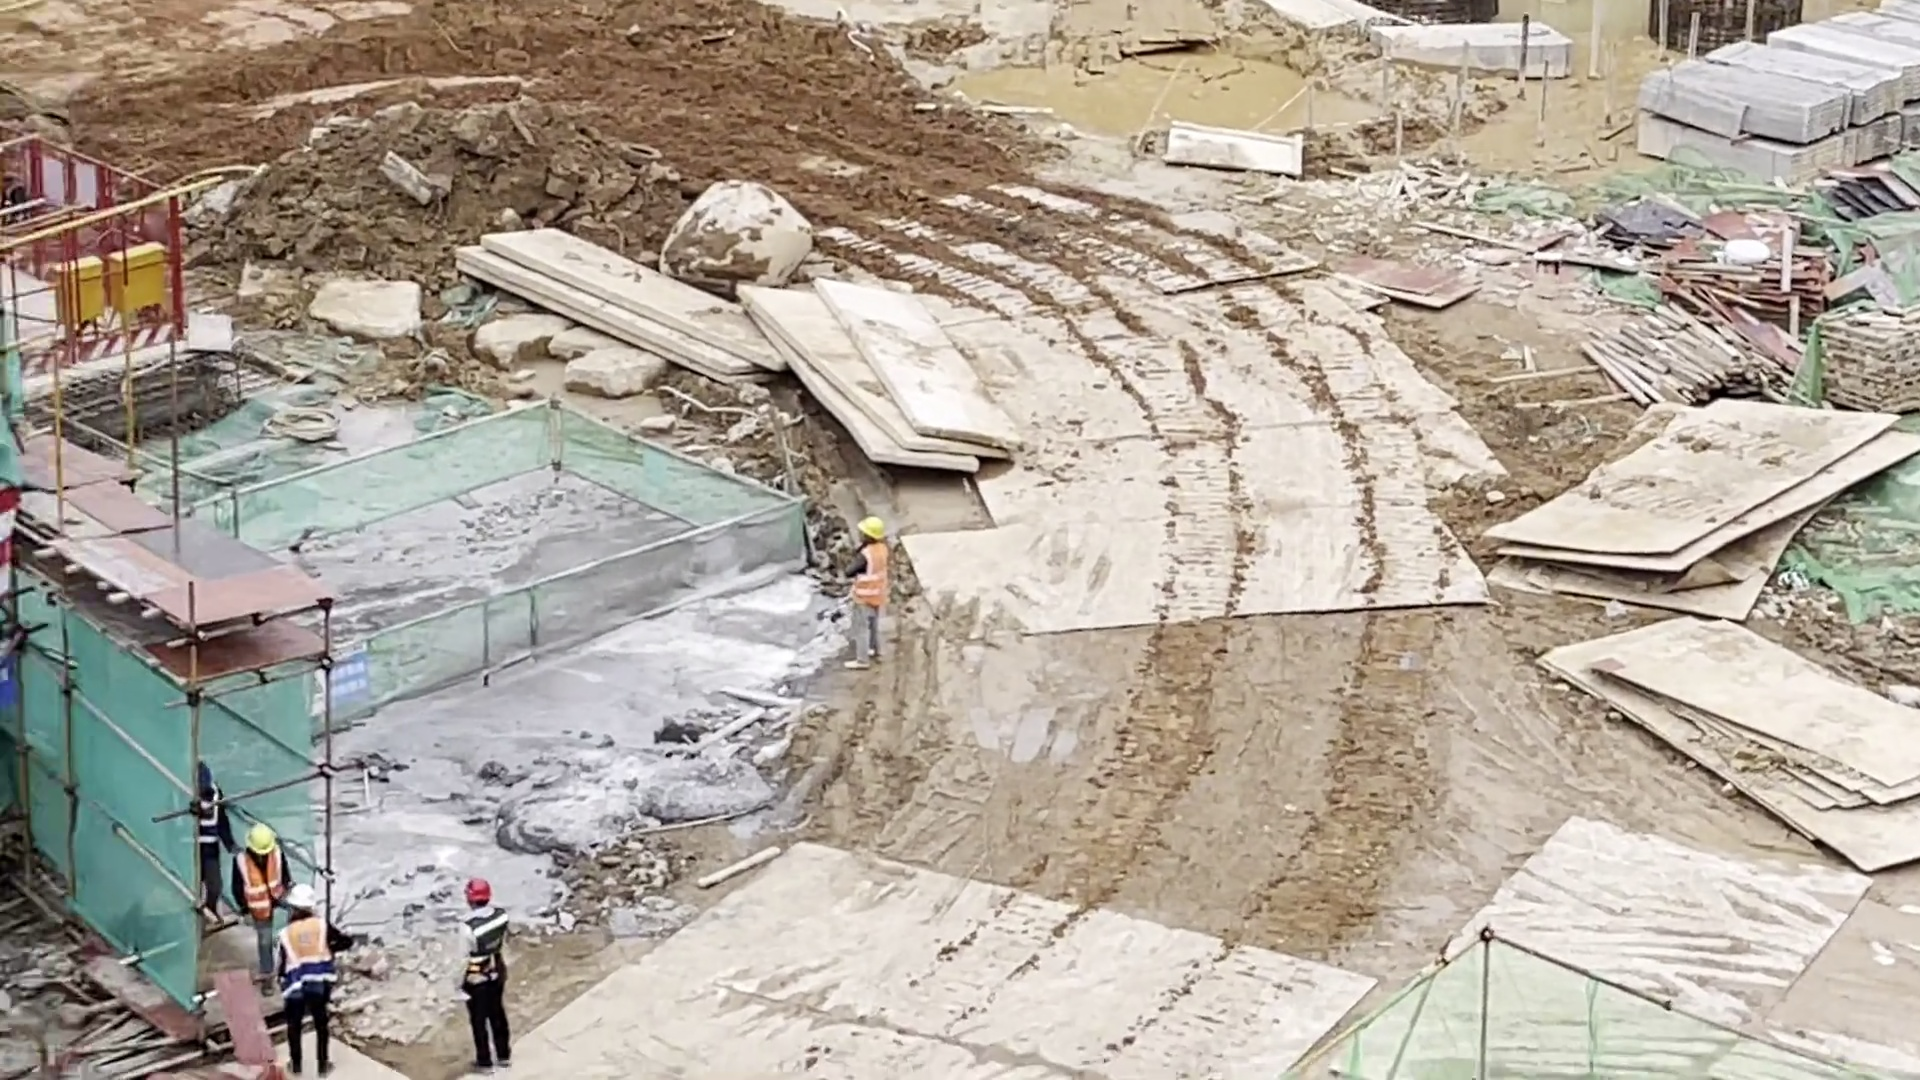helmet: (245, 822, 273, 850), (463, 880, 493, 906), (856, 515, 889, 538), (292, 889, 314, 911), (199, 763, 211, 798)
person: (270, 885, 354, 1080), (454, 879, 521, 1078), (238, 820, 292, 997), (840, 516, 893, 668), (188, 757, 236, 895)
vest: (281, 919, 340, 991), (237, 846, 280, 915), (459, 906, 504, 968), (854, 545, 888, 612), (192, 794, 222, 854)
wood: (1725, 23, 1903, 113), (1634, 111, 1845, 182), (1648, 57, 1851, 128), (1766, 19, 1920, 89), (1849, 113, 1920, 167)
